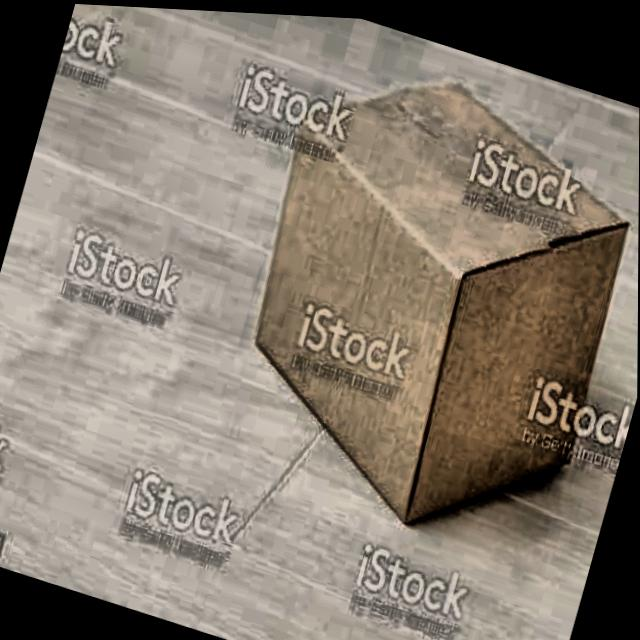Cardbox: (198, 22, 640, 594)
